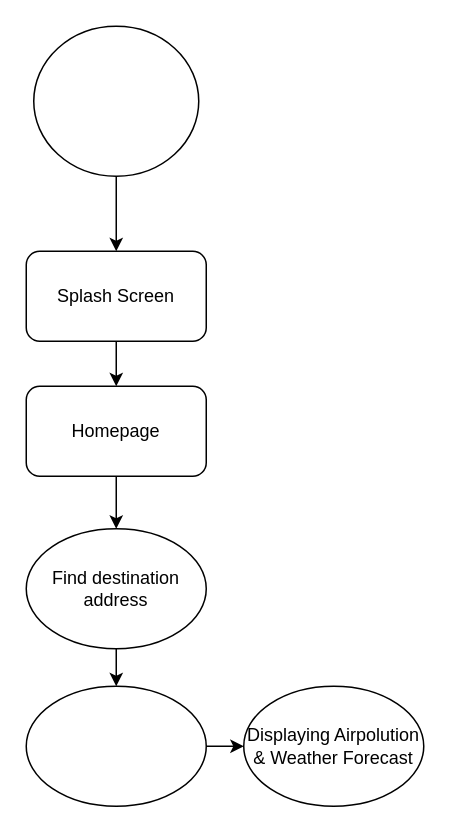
The diagram is 450 pixels wide and 833 high, and some of its shapes have lost their labels. The shapes that lost their labels are listed below. From the top down, each one's box as (x1, y1, x2, y2) in pixels, then its label:
(32, 25, 199, 176): Opening the Routeco apps
(25, 685, 206, 806): Navigate to destination
